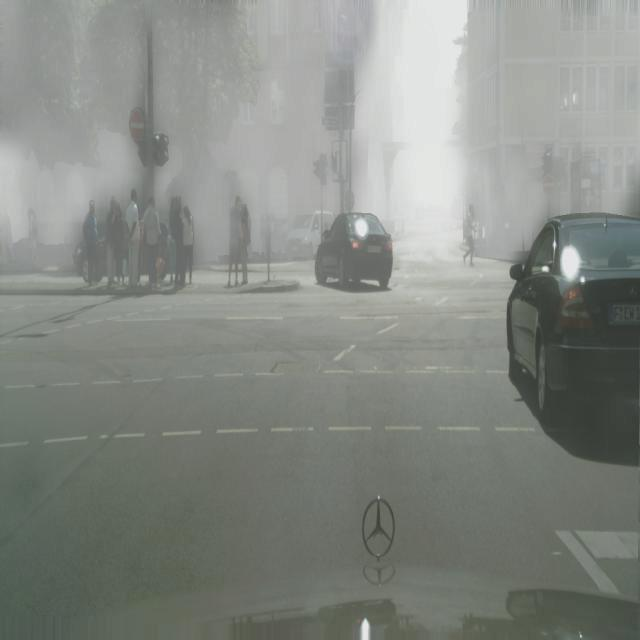person: (141, 193, 165, 291), (224, 189, 243, 289), (124, 188, 141, 293), (82, 199, 100, 290), (168, 193, 184, 291), (462, 195, 479, 276), (25, 207, 46, 270), (181, 206, 197, 284), (112, 204, 126, 289), (105, 196, 117, 291), (238, 202, 251, 286), (1, 195, 14, 273), (257, 209, 267, 256), (269, 212, 277, 261), (280, 211, 288, 252)
truck: (503, 202, 639, 440), (73, 203, 174, 291), (312, 201, 397, 301), (282, 196, 335, 267)
